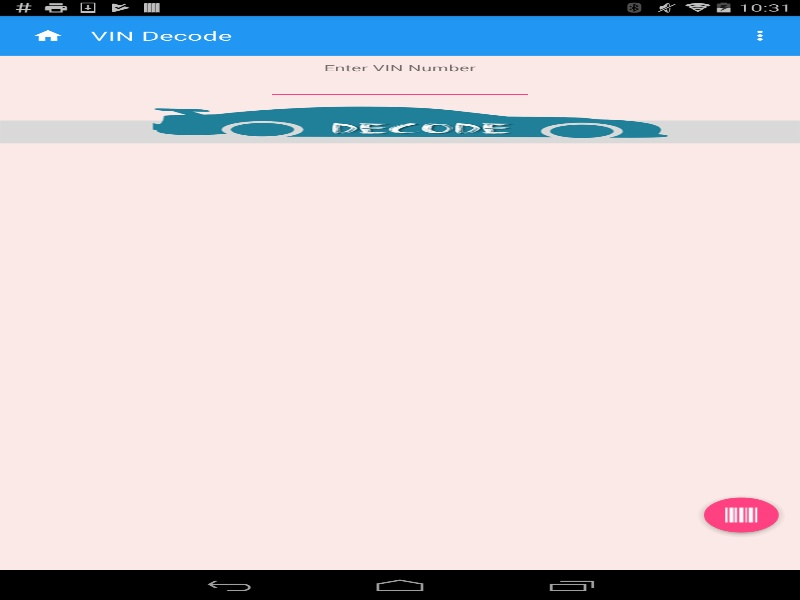Button: (688, 486, 794, 543), (10, 15, 85, 55)
Input: (266, 71, 533, 99)
